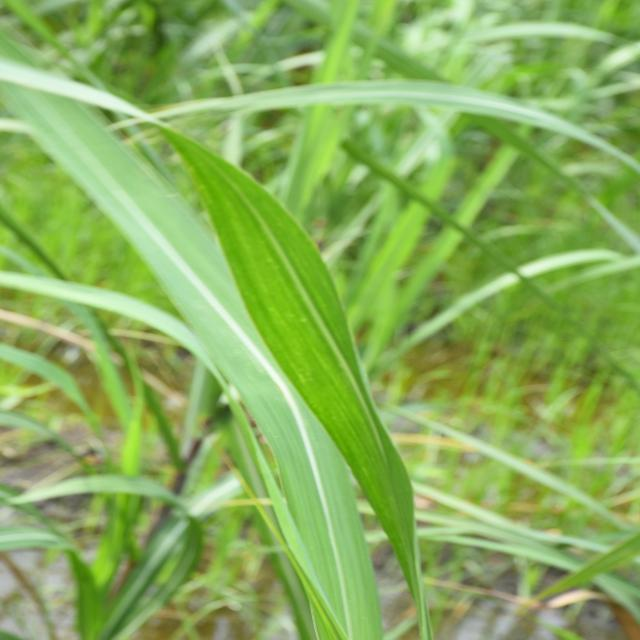Sugarcane: (0, 46, 390, 640)
